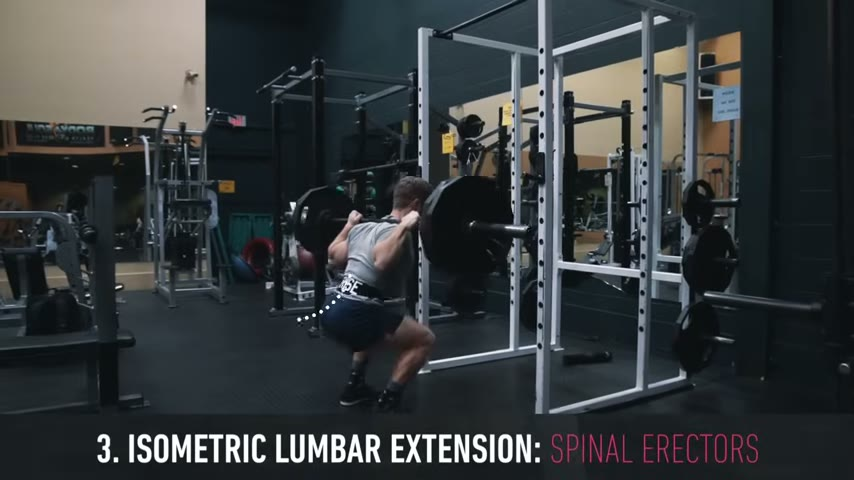barbell_plate_side: (458, 171, 529, 333)
